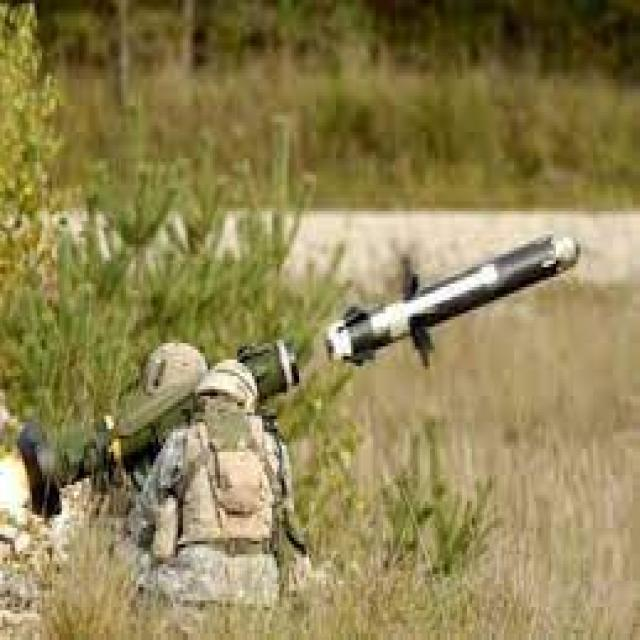bazooka: (9, 183, 618, 556)
